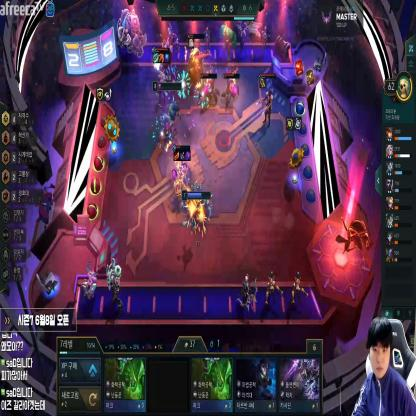streamer: (350, 316, 416, 416)
